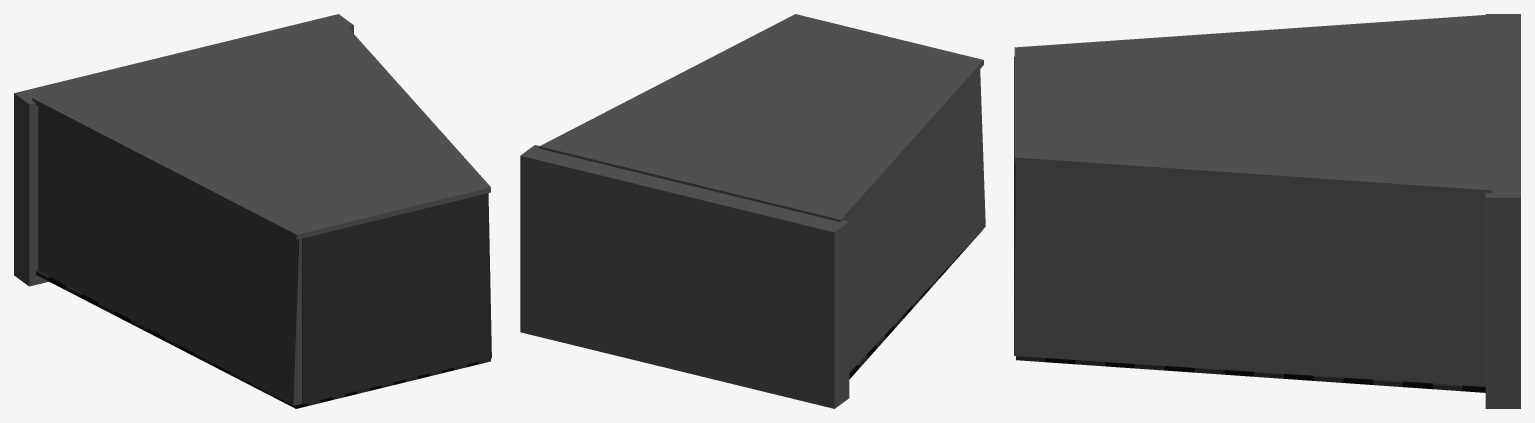
File: Live.fbx
3 views of the same model, side by side, from view 1: azimuth 30°, elevation 25°; view 2: azimuth 150°, elevation 25°; view 3: azimuth 270°, elevation 25° (orthographic). The views are drawn at different scales.
Parts seen in each view (by area): view 1: 天井, 右側の壁, 正面の壁, 立方体, 地面, 左側の壁; view 2: 立方体, 天井, 右側の壁, 地面; view 3: 左側の壁, 天井, 立方体, 地面.
Boxes of the visible parts, <box> form: 天井: <box>32,22,490,239</box>; 右側の壁: <box>38,106,301,405</box>; 正面の壁: <box>302,193,487,404</box>; 立方体: <box>14,14,353,286</box>; 地面: <box>36,270,490,408</box>; 左側の壁: <box>487,193,491,358</box>; 立方体: <box>520,145,849,408</box>; 天井: <box>539,14,983,222</box>; 右側の壁: <box>845,69,985,372</box>; 地面: <box>849,231,981,379</box>; 左側の壁: <box>1014,163,1485,386</box>; 天井: <box>1014,14,1492,195</box>; 立方体: <box>1485,14,1520,408</box>; 地面: <box>1016,356,1485,392</box>.
Bounding box in the file's own units: 2457 × 1336 × 2866.
